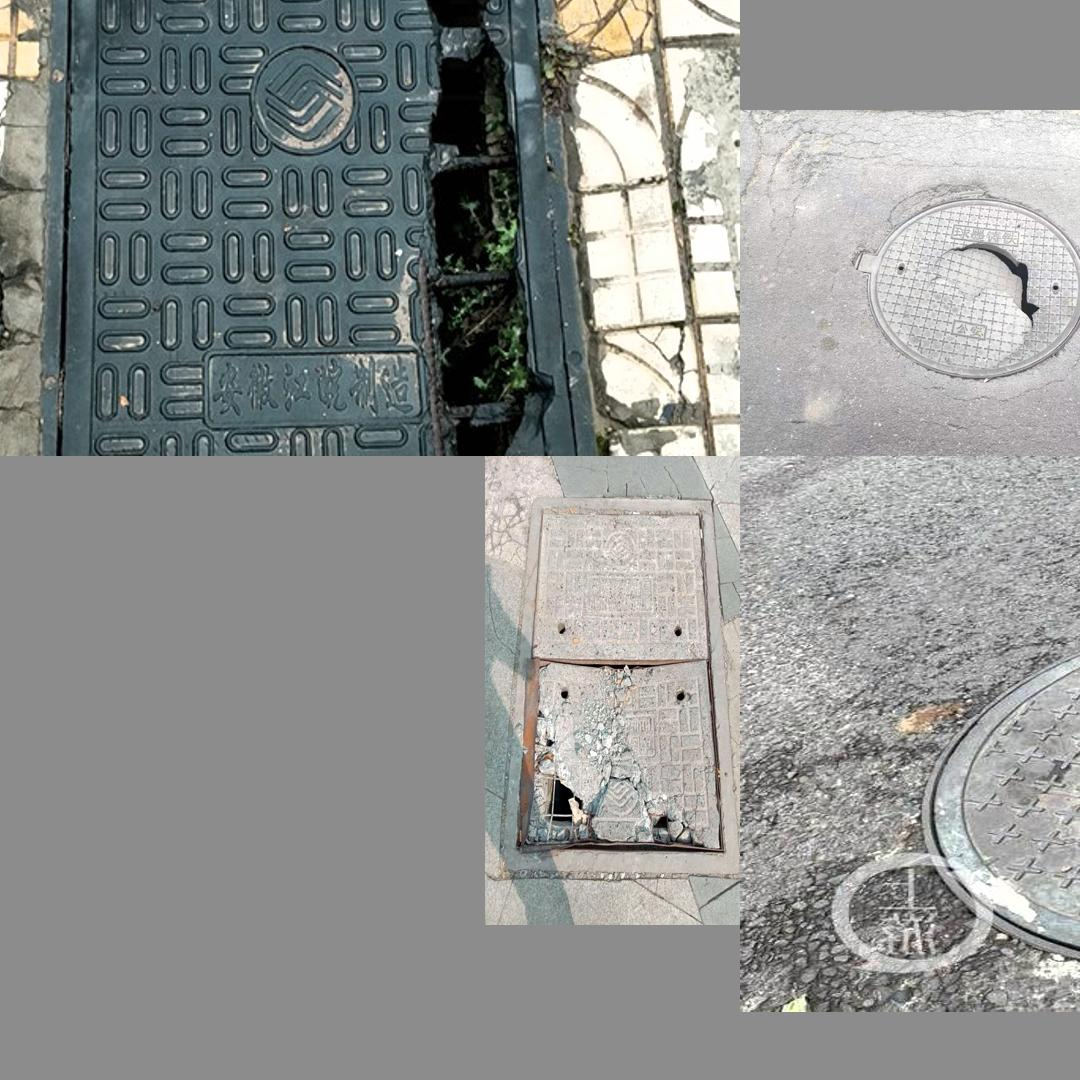broke: (41, 0, 601, 454), (501, 496, 740, 872), (862, 606, 1080, 975), (860, 190, 1080, 393)
